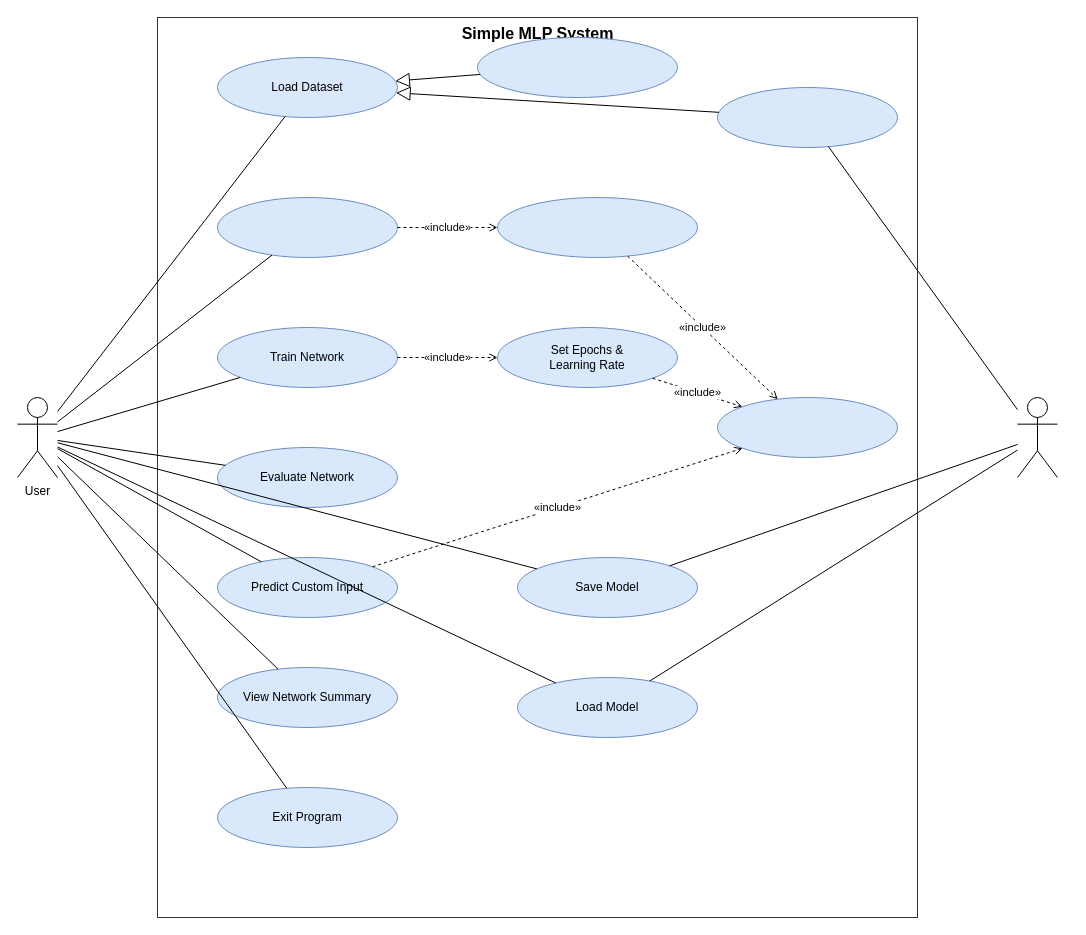
Some shapes in this 1086 by 935 pixel diagram are drawn without their labels. Each missing label, with the box of its shape:
Build Network: (216, 196, 398, 258)
Configure Layers & Activation Functions: (496, 196, 698, 258)
File System: (1016, 396, 1058, 478)
Import CSV Dataset: (716, 86, 898, 148)
Use Built-in Dataset (XOR / AND / OR): (476, 36, 678, 98)
Validate Input: (716, 396, 898, 458)
